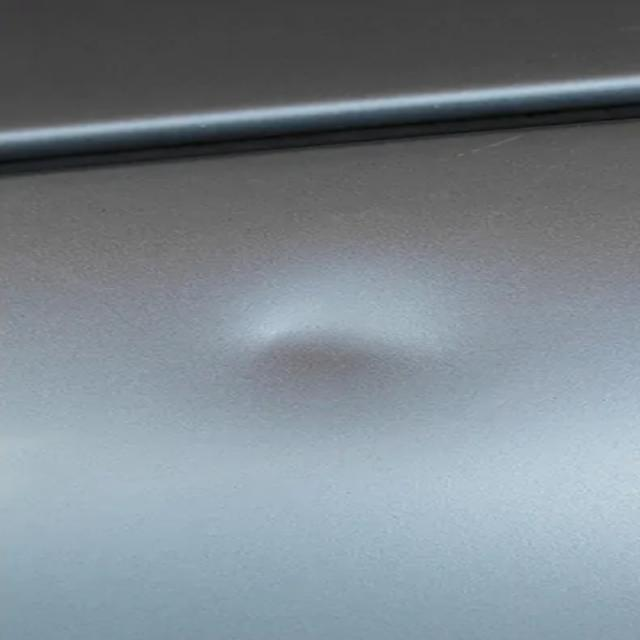dents: (221, 252, 408, 440)
